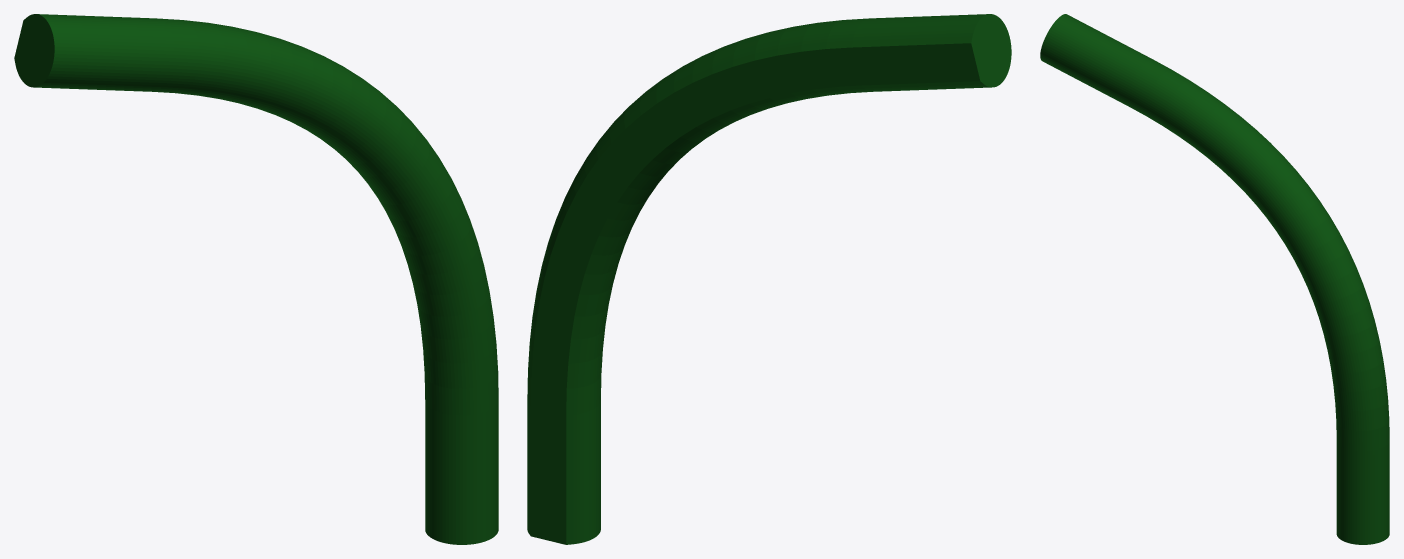
The model's file is stem_3B_75_L.glb.
3 renders of one model, left to right at view 1: azimuth 30°, elevation 25°; view 2: azimuth 150°, elevation 25°; view 3: azimuth 330°, elevation 25°, orthographic. The views are drawn at different scales.
Parts seen in each view (by area): view 1: stem_3B_75_L; view 2: stem_3B_75_L; view 3: stem_3B_75_L.
Part boxes in pixels (x1=…): stem_3B_75_L: x1=14, y1=14, x2=498, y2=544; stem_3B_75_L: x1=527, y1=14, x2=1011, y2=544; stem_3B_75_L: x1=1040, y1=14, x2=1389, y2=544.
Size of the model in its own units: 0.0528 by 0.0664 by 0.00666.
